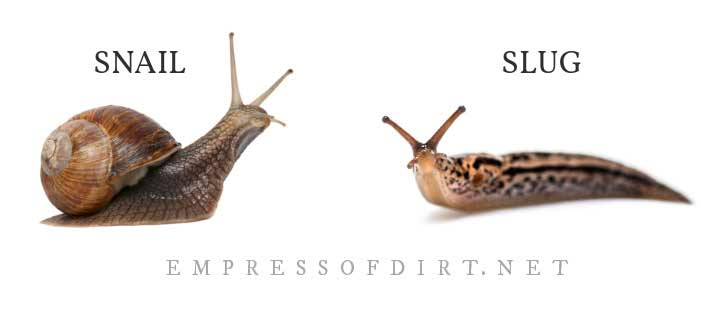slug: (380, 106, 691, 207)
snail: (36, 30, 296, 231)
